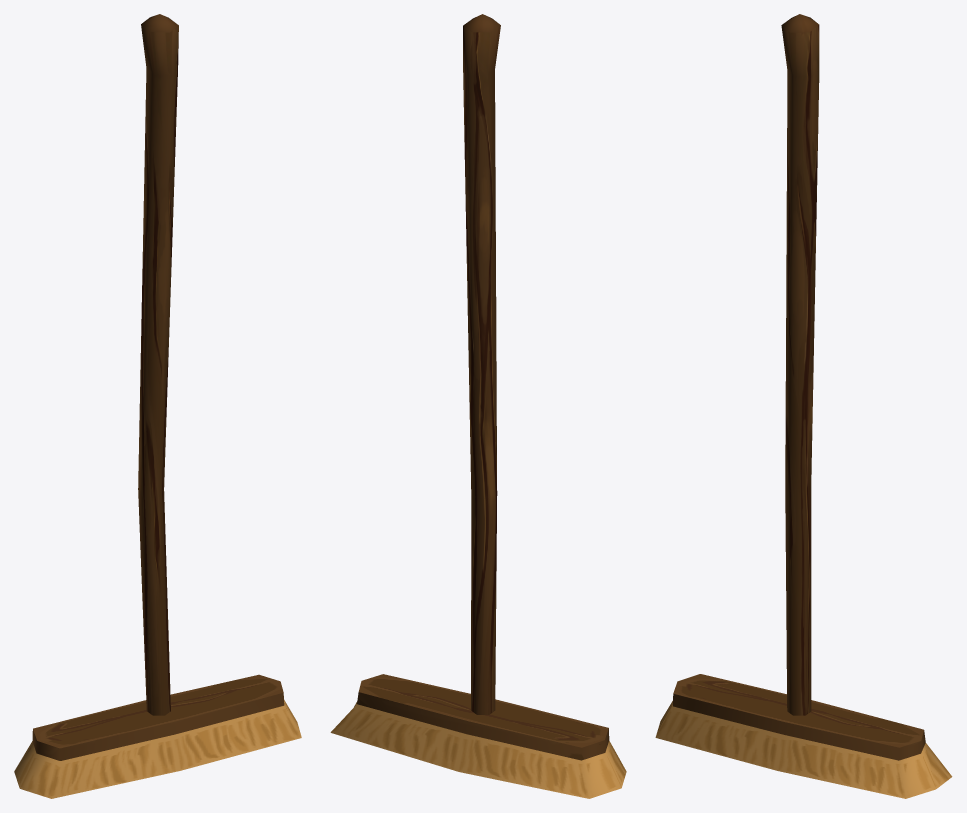
The model's file is SM_PROP_broom_interior.fbx.
3 views of the same model, side by side, from view 1: azimuth 30°, elevation 25°; view 2: azimuth 150°, elevation 25°; view 3: azimuth 330°, elevation 25° (orthographic).
Parts seen in each view (by area): view 1: SM_PROP_broom_interior; view 2: SM_PROP_broom_interior; view 3: SM_PROP_broom_interior.
Boxes of the visible parts, x1,y1,x2,y2 form: SM_PROP_broom_interior: (14, 14, 301, 798); SM_PROP_broom_interior: (330, 14, 626, 798); SM_PROP_broom_interior: (655, 14, 952, 798).
Bounding box in the file's own units: 52.86 × 135 × 15.17.
